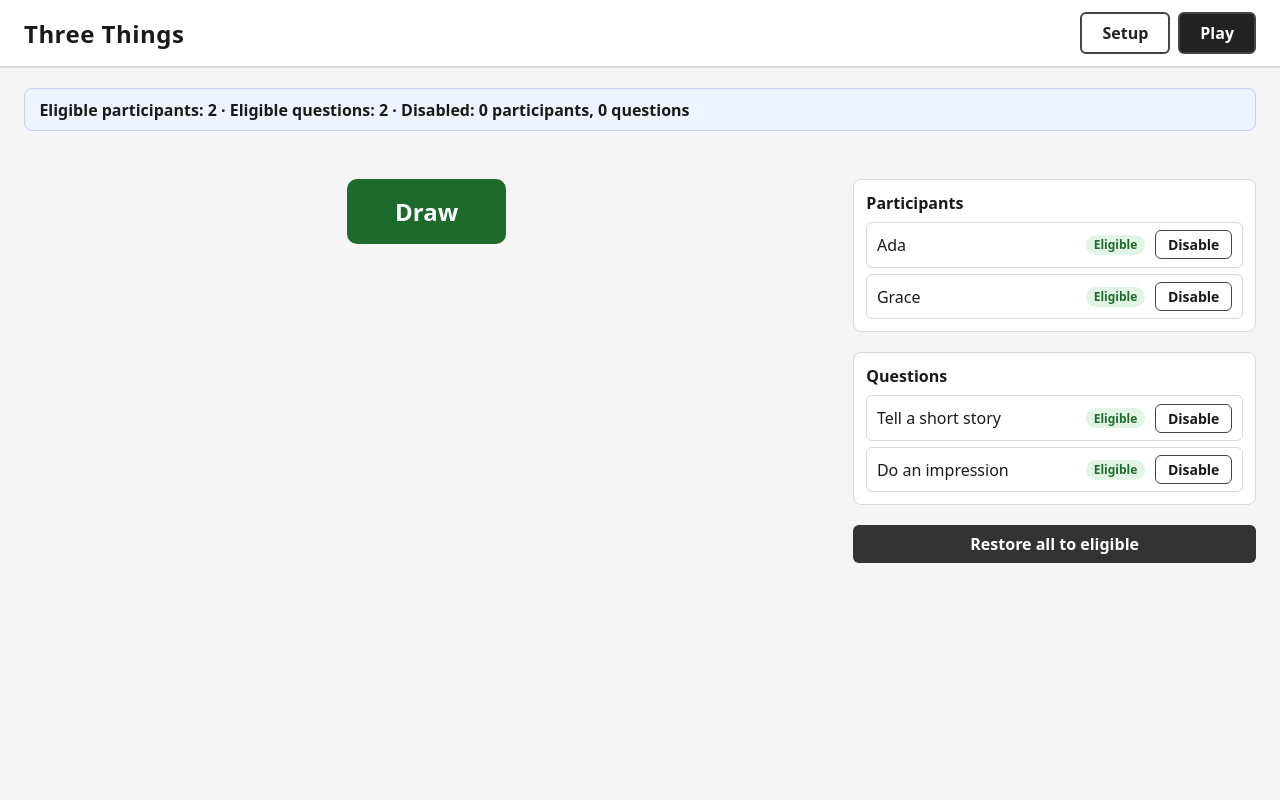
it: move-on flow › shows no move-on control while the draw animation runs and keeps Draw disabled (V10, FR-017)
Click the button "Draw".
click(427, 212)  # box [347,179,506,244]
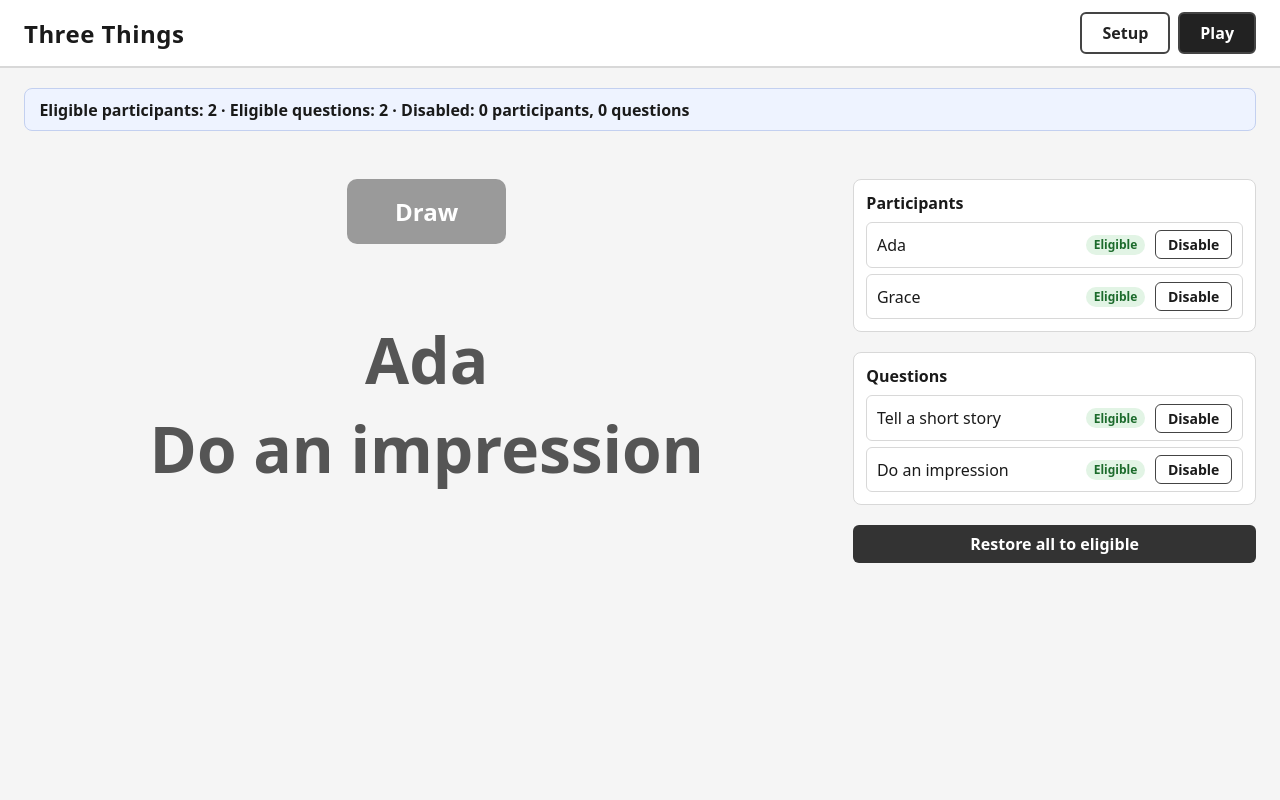
Expected: the button "Draw" is disabled, [347,179,506,244]
